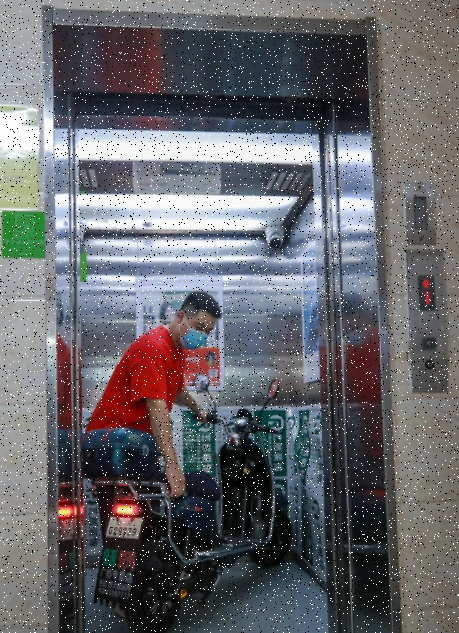ebike: (90, 376, 286, 632)
person: (83, 289, 222, 493)
